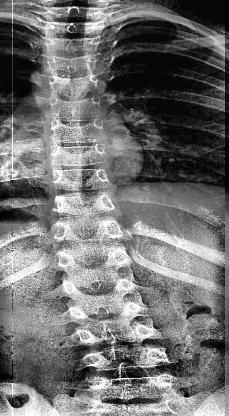Vertebrae: (80, 370, 176, 404), (74, 320, 154, 354), (80, 344, 172, 372), (57, 251, 130, 279), (49, 222, 122, 250), (47, 190, 114, 218), (47, 142, 109, 170), (70, 301, 140, 325), (64, 278, 134, 301), (44, 168, 119, 187), (41, 36, 104, 58), (42, 121, 108, 141), (44, 56, 98, 78), (46, 97, 104, 117), (43, 76, 101, 96), (43, 22, 104, 36)
